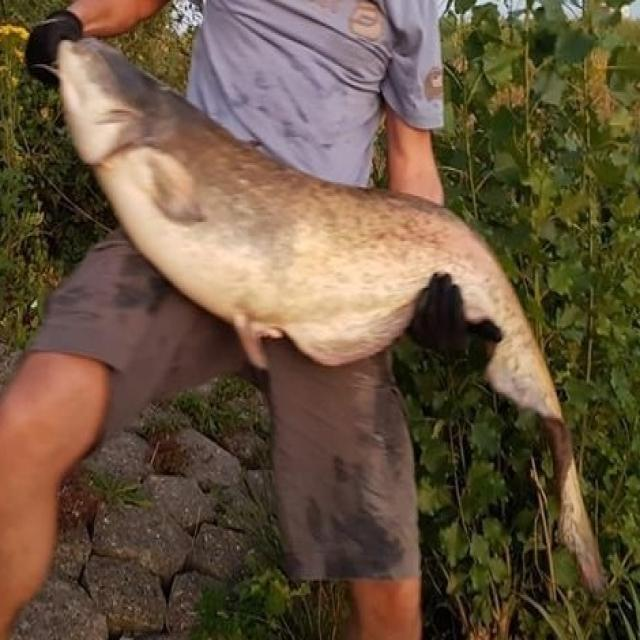Catfish: (56, 35, 613, 635)
